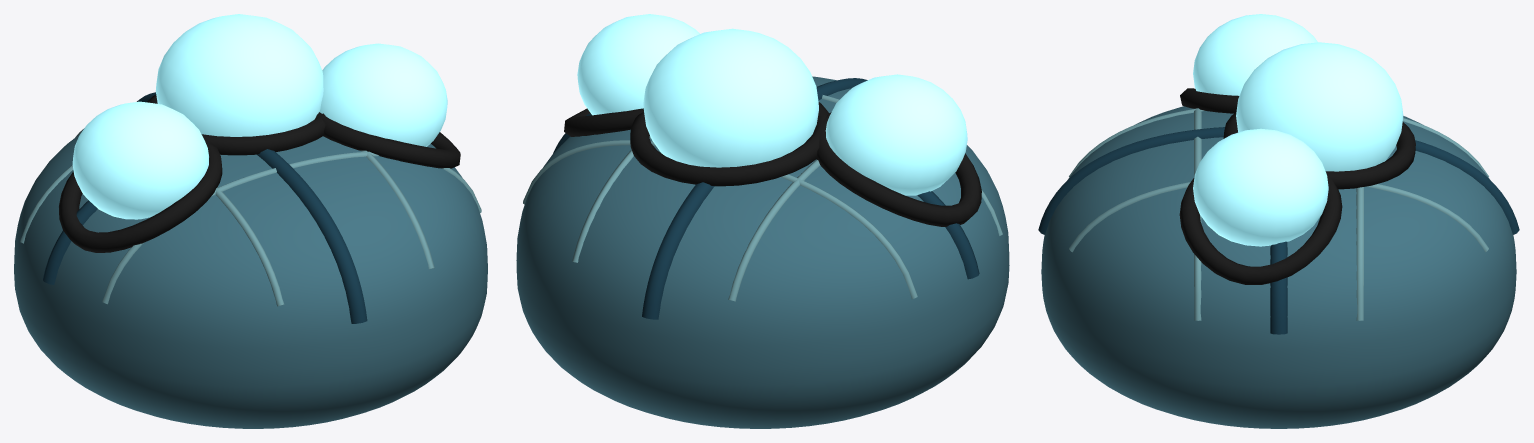
The model's file is pu_protron.glb.
3 renders of one model, left to right at view 1: azimuth 30°, elevation 25°; view 2: azimuth 150°, elevation 25°; view 3: azimuth 270°, elevation 25°, orthographic. The views are drawn at different scales.
Visible parts, largest first — view 1: orb, bubble, bubble_socket, orb_groove_13, orb_seam_13; view 2: orb, bubble, bubble_socket, orb_seam_13, orb_groove_13; view 3: orb, bubble, bubble_socket, orb_groove_13, orb_seam_13.
Part boxes in pixels (<box>): orb: <box>14,134,487,428</box>; bubble: <box>72,14,447,219</box>; bubble_socket: <box>59,94,460,252</box>; orb_groove_13: <box>43,92,367,323</box>; orb_seam_13: <box>20,128,481,306</box>; orb: <box>516,76,1009,428</box>; bubble: <box>577,14,967,195</box>; bubble_socket: <box>564,102,981,226</box>; orb_seam_13: <box>523,95,1002,301</box>; orb_groove_13: <box>553,78,979,319</box>; orb: <box>1041,106,1516,428</box>; bubble: <box>1193,14,1403,246</box>; bubble_socket: <box>1179,88,1415,284</box>; orb_groove_13: <box>1038,127,1519,334</box>; orb_seam_13: <box>1069,108,1488,320</box>.
Bounding box in the file's own units: 20.88 × 16.28 × 21.27.
